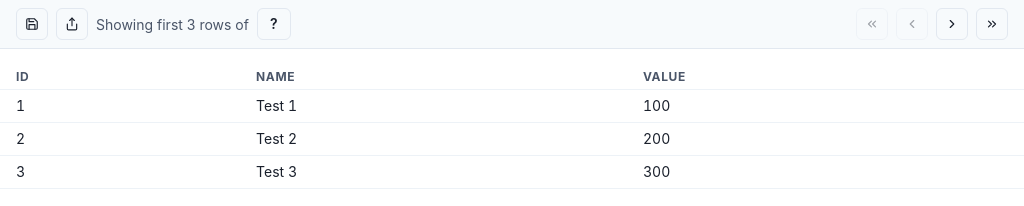
Test case: PaginatedQueryResult › handles next page navigation
The image size is (1024, 206).
// Click Next button
Click the button named "next results": {"x": 952, "y": 24} [936,8,968,40]
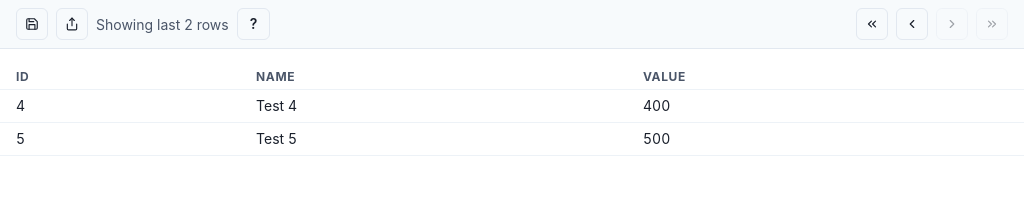
Expected: the text "Showing last 2 rows" is shown, [96,14,229,34]
